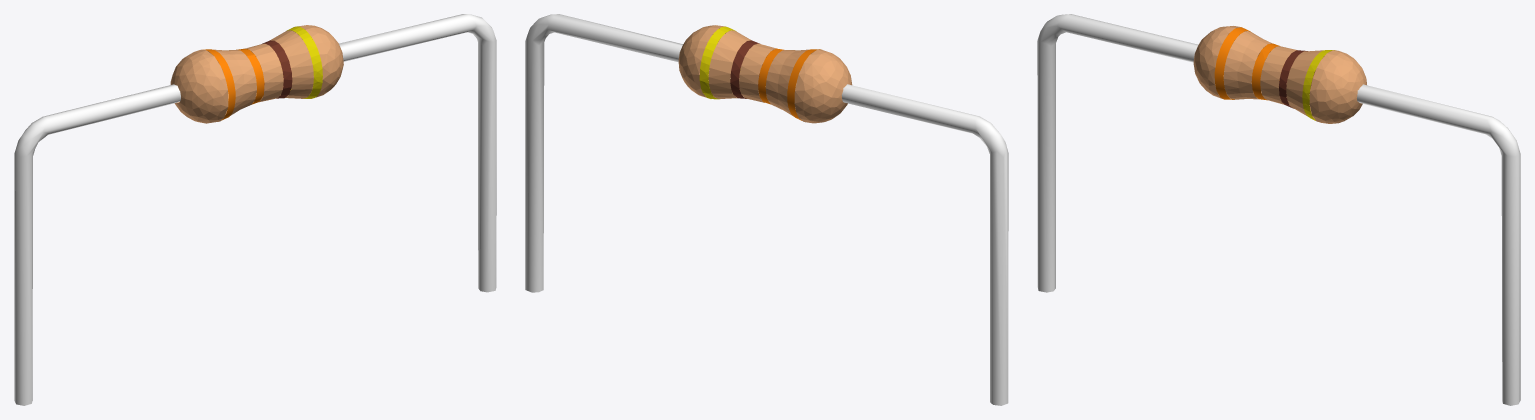
Rendered from resistor330.fbx.
3 renders of one model, left to right at view 1: azimuth 30°, elevation 25°; view 2: azimuth 150°, elevation 25°; view 3: azimuth 330°, elevation 25°, orthographic.
Visible parts, largest first — view 1: 330ohm; view 2: 330ohm; view 3: 330ohm.
Part boxes in pixels (x1,y1,x2,y2): 330ohm: (14,14,496,405); 330ohm: (525,14,1008,405); 330ohm: (1037,14,1520,405).
Bounding box in the file's own units: 1.79 × 1.08 × 0.2409.
